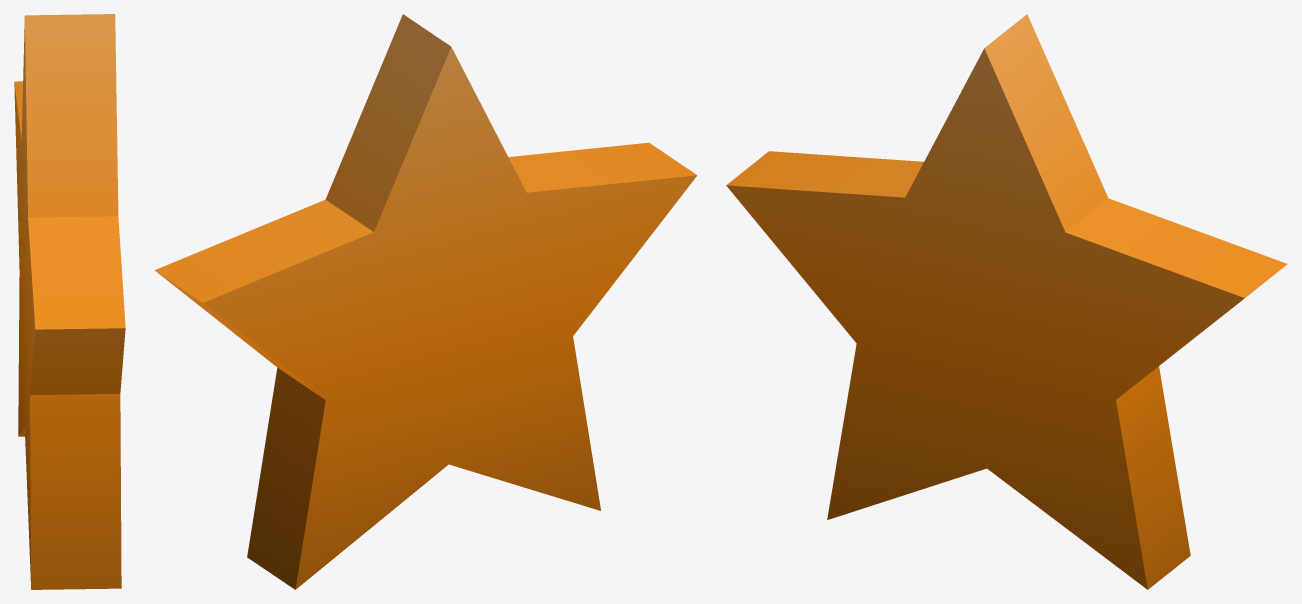
File: staranim.fbx
The picture shows the model from 3 angles, left to right: view 1: azimuth 30°, elevation 25°; view 2: azimuth 150°, elevation 25°; view 3: azimuth 270°, elevation 25°; orthographic projection.
Visible parts, largest first — view 1: Collectible_Star_01; view 2: Collectible_Star_01; view 3: Collectible_Star_01.
Part boxes in pixels (x1=…): Collectible_Star_01: x1=14, y1=14, x2=125, y2=589; Collectible_Star_01: x1=154, y1=14, x2=697, y2=589; Collectible_Star_01: x1=726, y1=14, x2=1287, y2=589.
Bounding box in the file's own units: 45.58 × 71.65 × 71.92.
1 material, 1 textured.
